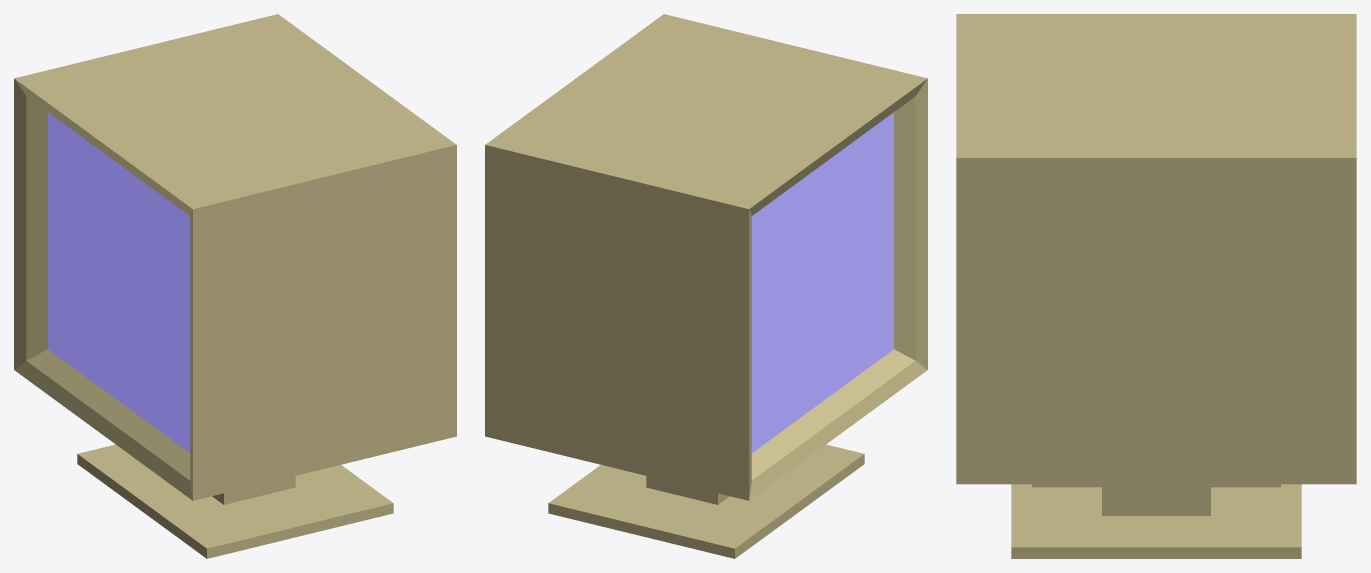
File: ComputerOff.fbx
The picture shows the model from 3 angles, left to right: view 1: azimuth 30°, elevation 25°; view 2: azimuth 150°, elevation 25°; view 3: azimuth 270°, elevation 25°; orthographic projection. The views are drawn at different scales.
Visible parts, largest first — view 1: Cube.001; view 2: Cube.001; view 3: Cube.001.
Boxes of the visible parts, box(x1,y1,x2,y2) form: Cube.001: box(14, 14, 456, 558); Cube.001: box(485, 14, 927, 558); Cube.001: box(956, 14, 1356, 558).
Bounding box in the file's own units: 7.24 × 9.89 × 8.5.
